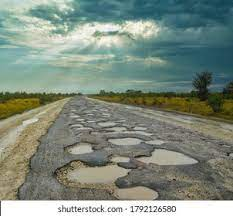potholes: (59, 139, 101, 158)
